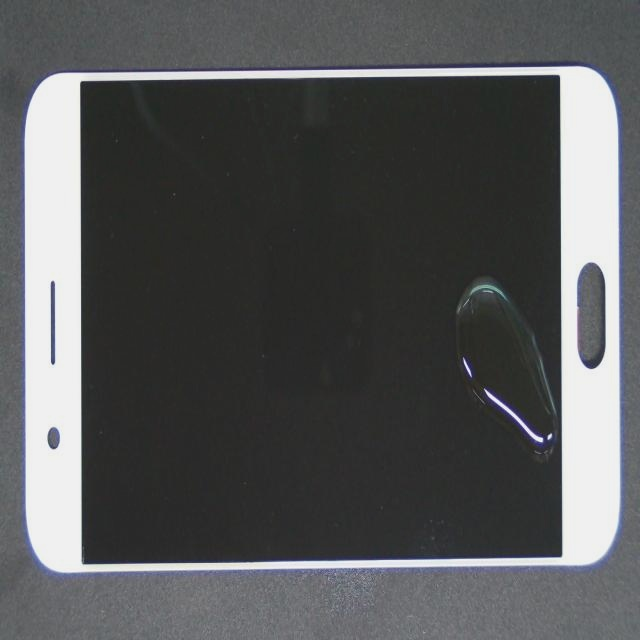oil: (298, 265, 640, 577)
